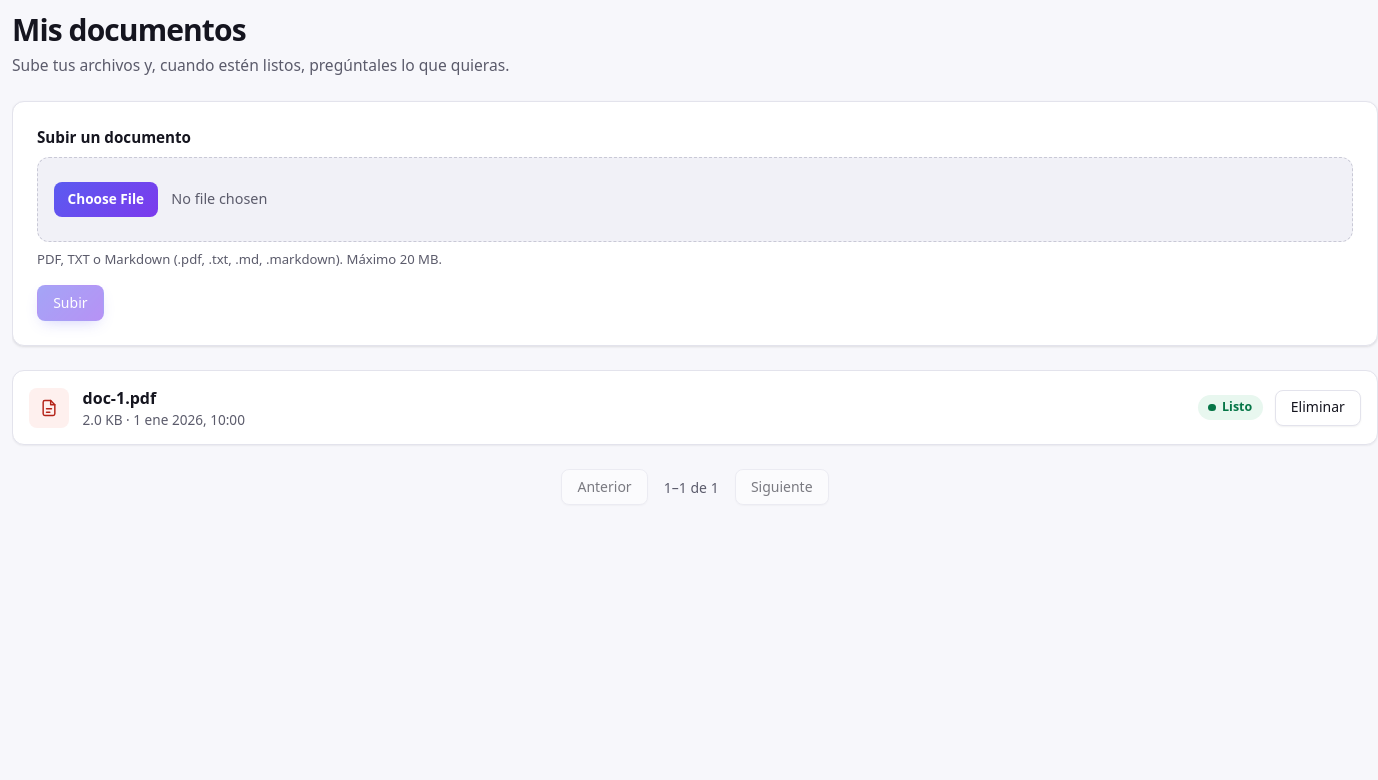
Scenario: eliminar documentos › un 409 mantiene el documento y explica que se vuelva a intentar
Expected: the text "doc-1.pdf" is shown, [83,387,156,409]
Click the button with aria-label "Eliminar doc-1.pdf" at (1318, 408), box [1275,390,1361,426]
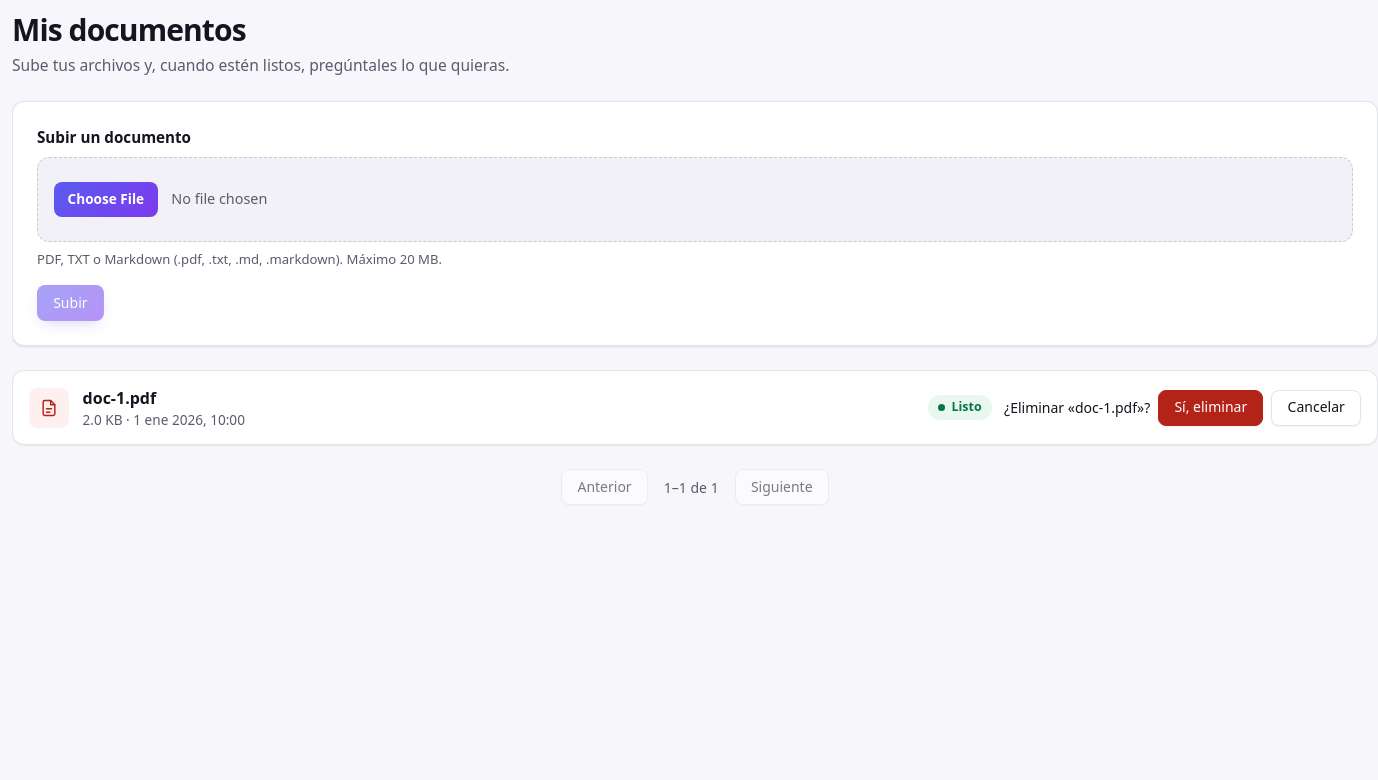
Click the button "Sí, eliminar" at (1211, 408), box [1158,390,1263,426]
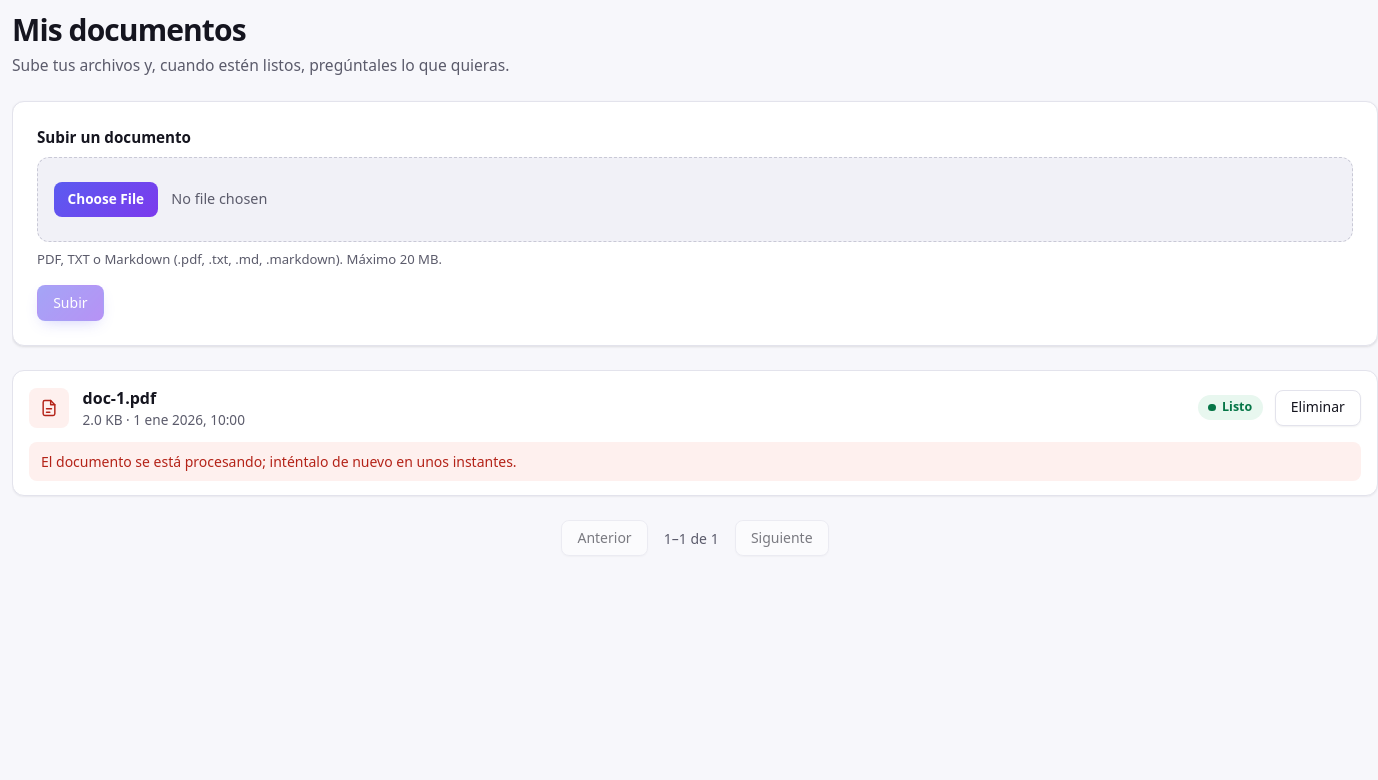
Expected: the text "doc-1.pdf" is shown, [83,387,156,409]
Result: the message shows "inténtalo de nuevo en unos instantes" at [41,452,517,471]
